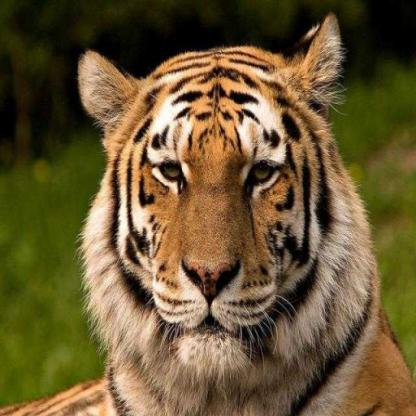Tiger: (32, 20, 415, 415)
